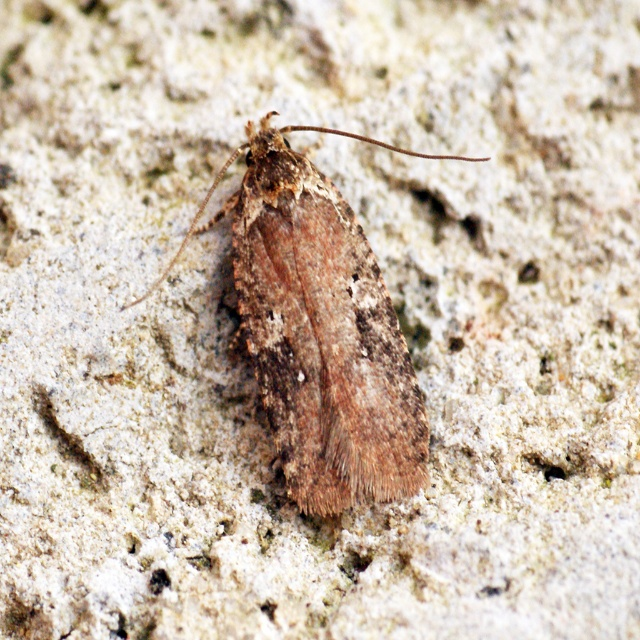Moths and butterflies: (117, 111, 493, 516)
